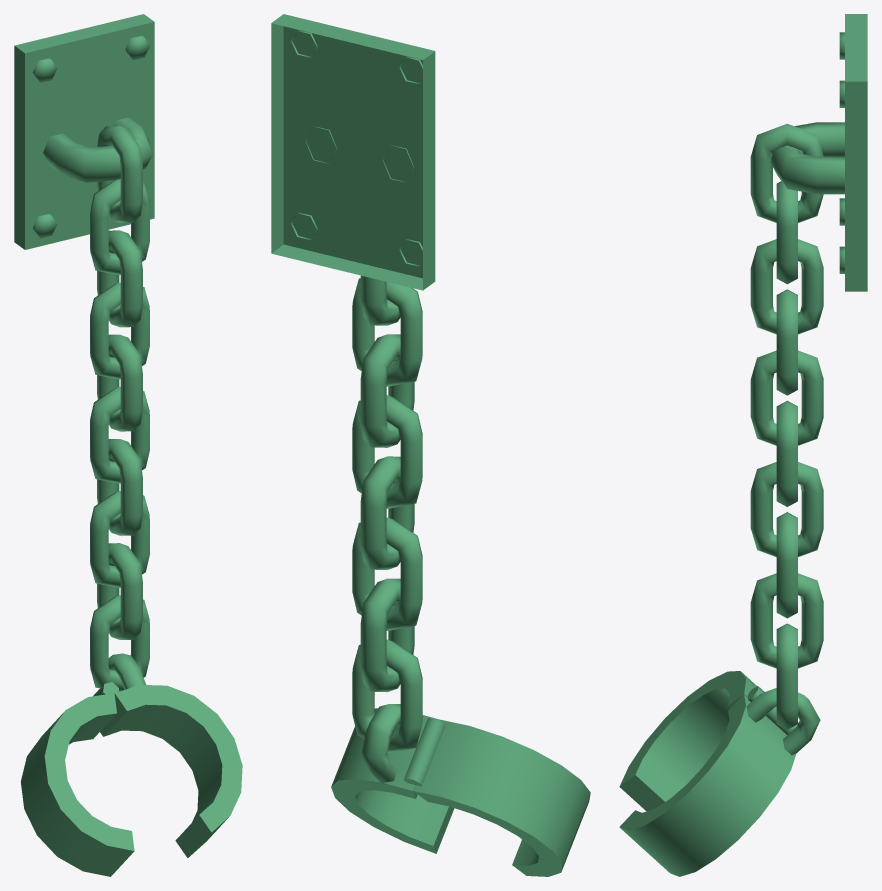
File: SM_Chain_00.fbx
The picture shows the model from 3 angles, left to right: view 1: azimuth 30°, elevation 25°; view 2: azimuth 150°, elevation 25°; view 3: azimuth 270°, elevation 25°; orthographic projection. The views are drawn at different scales.
Visible parts, largest first — view 1: SM_Chain_00; view 2: SM_Chain_00; view 3: SM_Chain_00.
Boxes of the visible parts, x1,y1,x2,y2 form: SM_Chain_00: [14, 14, 242, 876]; SM_Chain_00: [271, 14, 590, 876]; SM_Chain_00: [619, 14, 867, 876].
Bounding box in the file's own units: 0.4165 × 1.64 × 0.4508.
